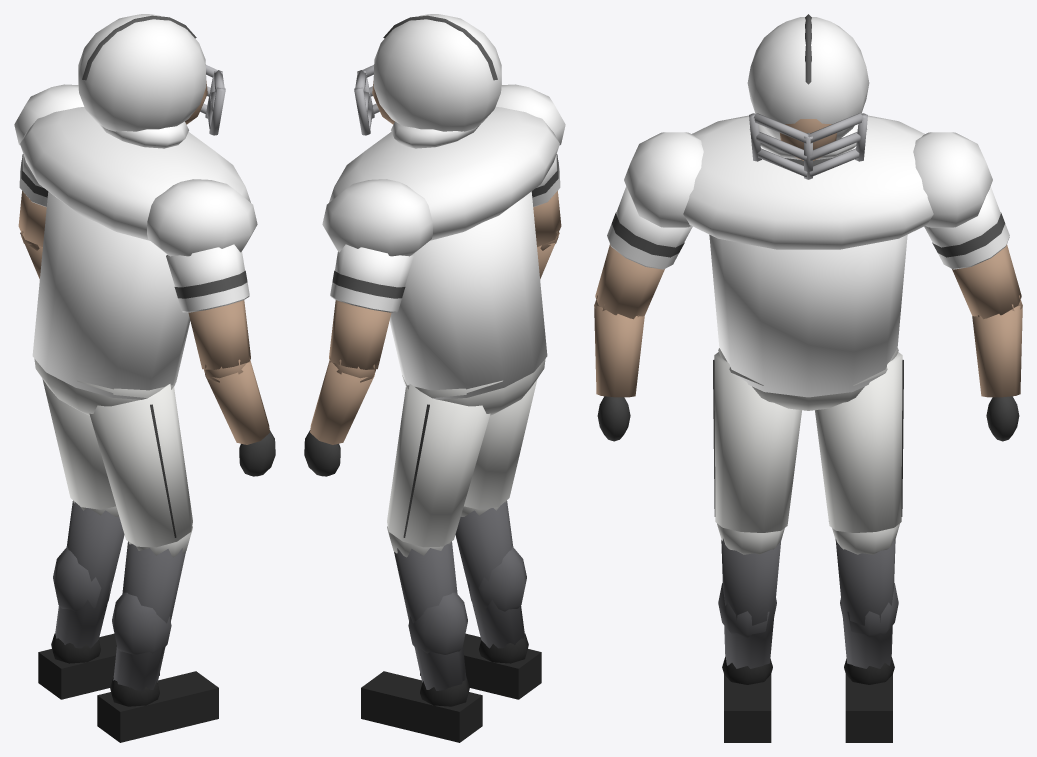
File: player.glb
The picture shows the model from 3 angles, left to right: view 1: azimuth 30°, elevation 25°; view 2: azimuth 150°, elevation 25°; view 3: azimuth 270°, elevation 25°; orthographic projection. The views are drawn at different scales.
Visible parts, largest first — view 1: player; view 2: player; view 3: player.
Part boxes in pixels (<box>): player: <box>14,14,275,742</box>; player: <box>304,14,565,742</box>; player: <box>594,14,1022,742</box>.
Bounding box in the file's own units: 0.5433 × 2 × 1.11.
